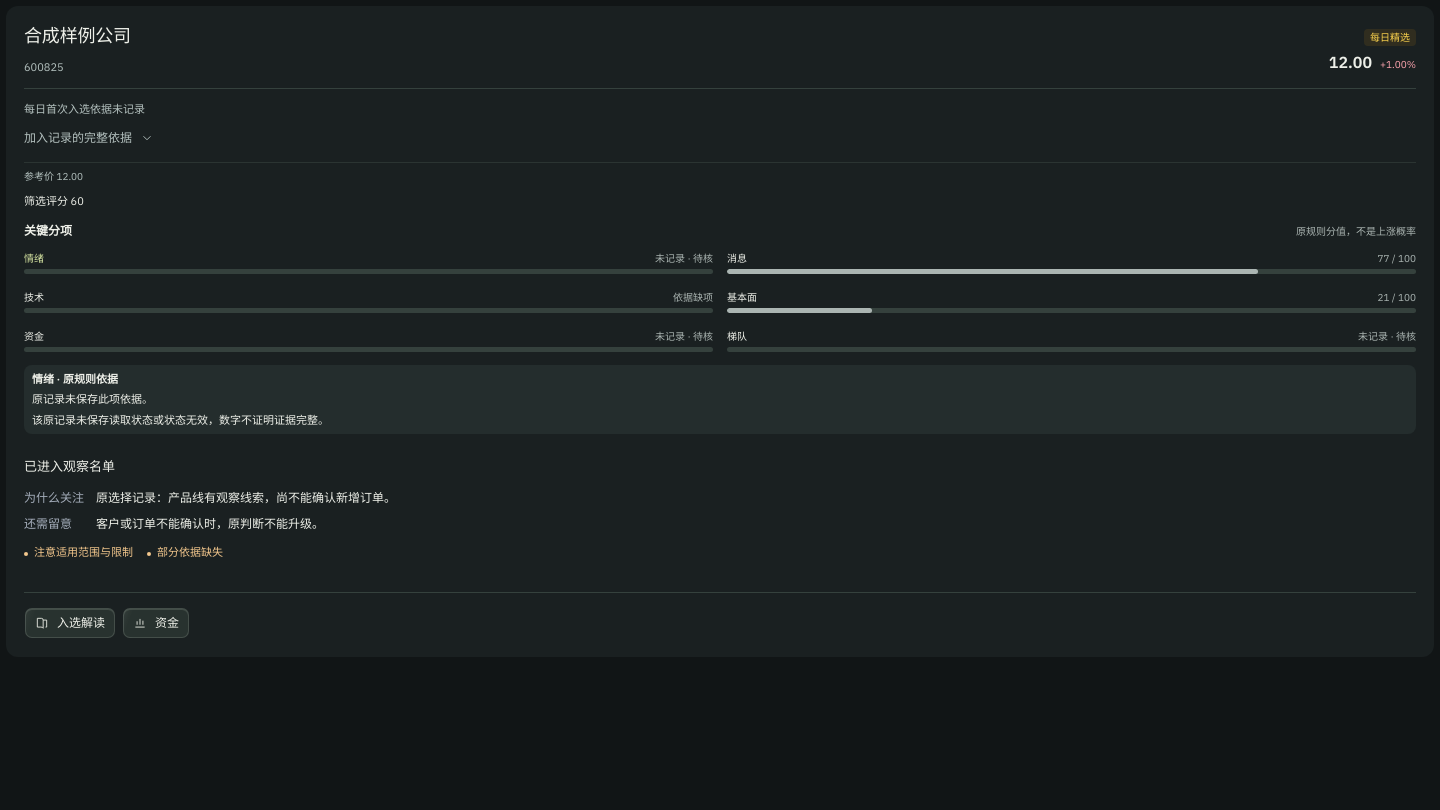
real saved score values fill bars, missing placeholders do not; hover/focus/click link the exact basis
The image size is (1440, 810).
Click the button "入选解读" at (70, 623), box [24,607,116,639]
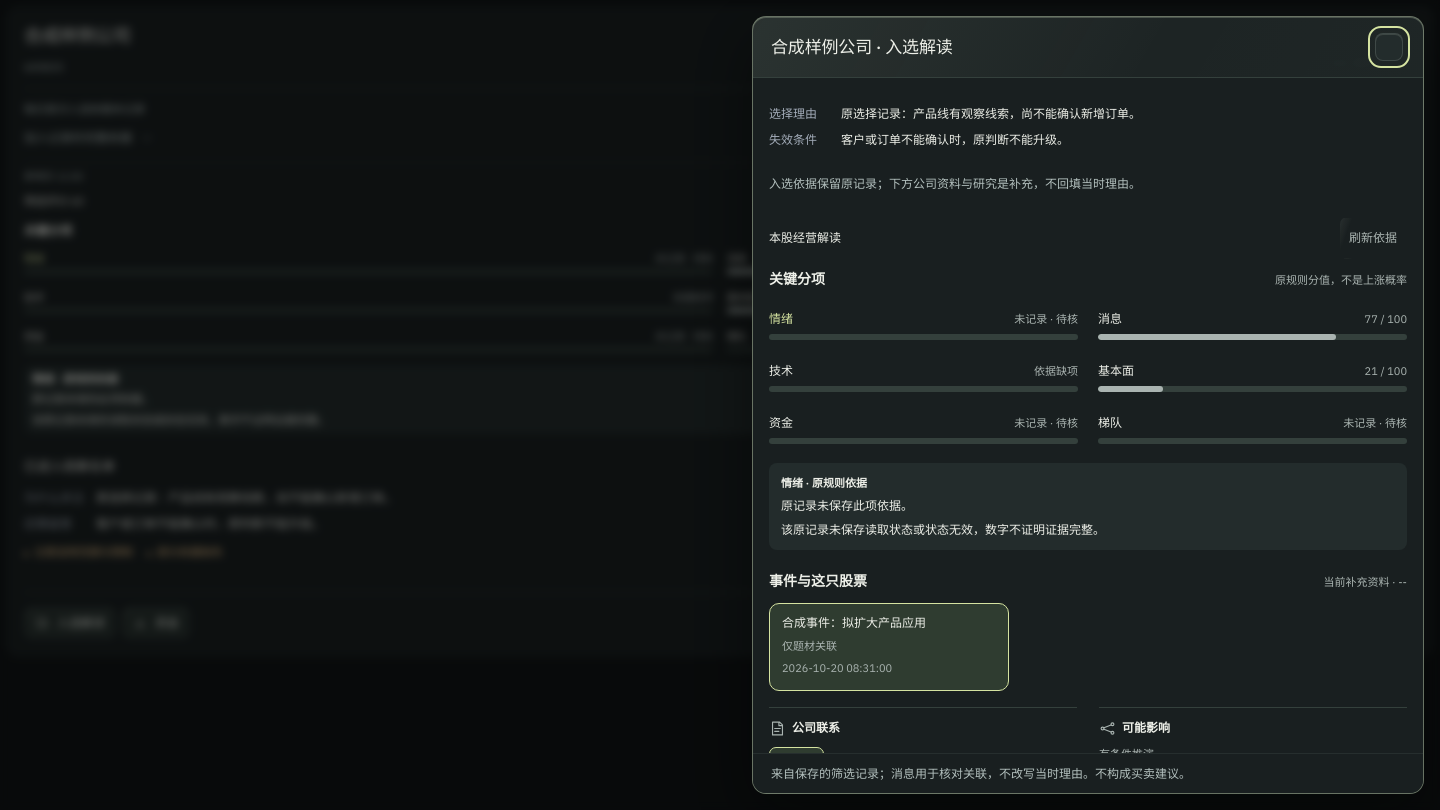
Hover over the button with aria-label "核对基本面评分依据" at (1116, 371), box [1098,353,1407,401]
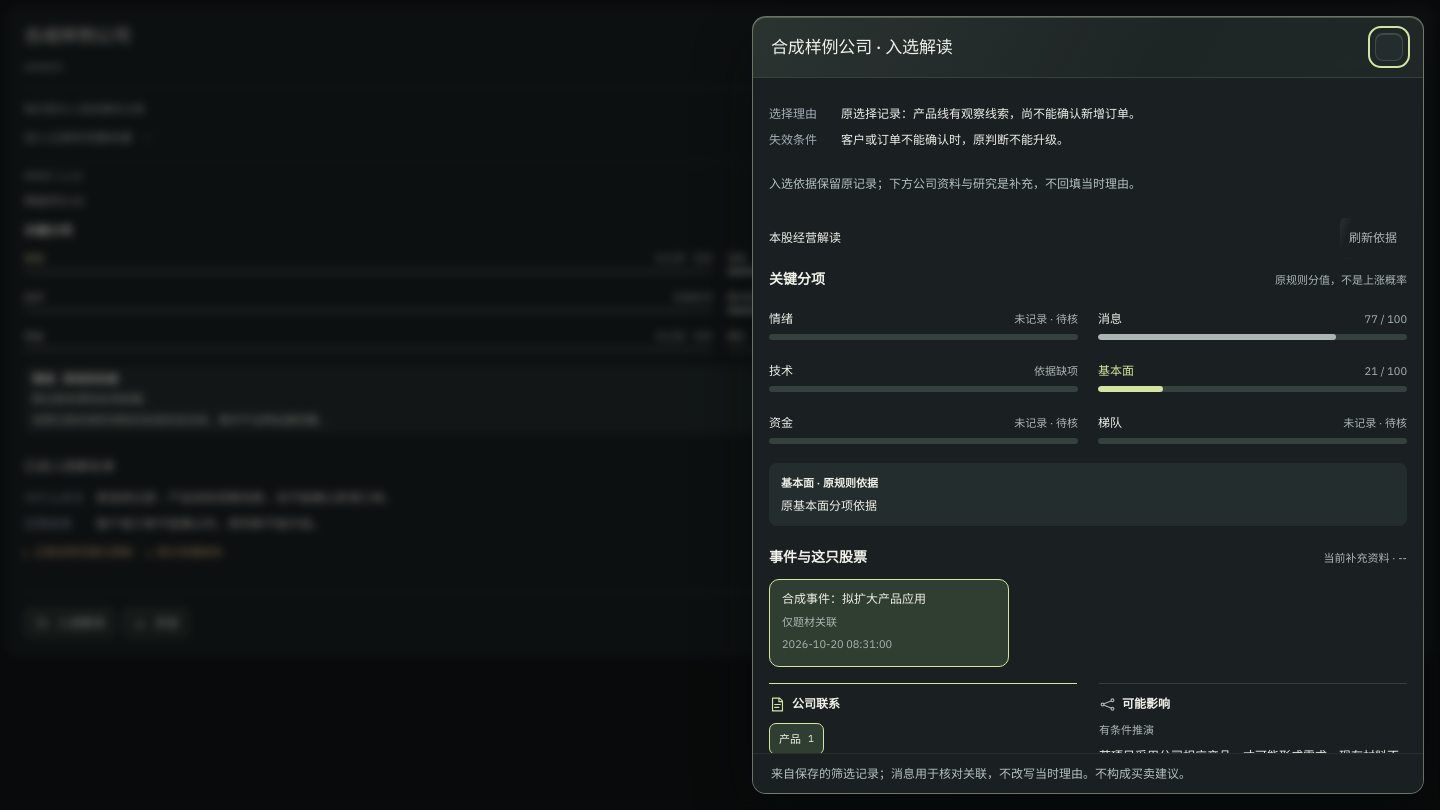
Check: the element named "当前评分依据" shows "原基本面分项依据", box [781,498,877,514]
Focus the button with aria-label "核对技术评分依据" at (1056, 371), box [769,353,1078,401]
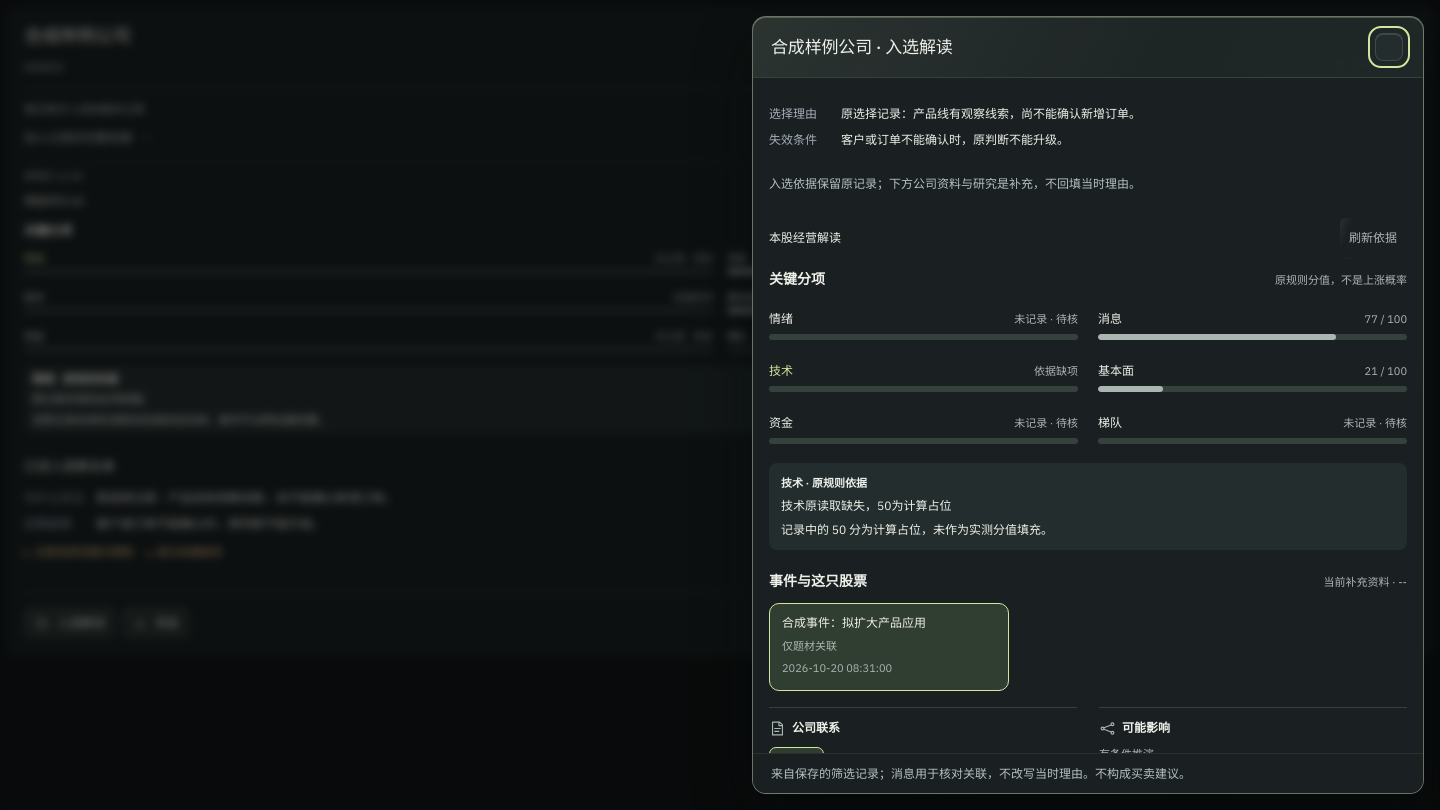
Check: the element named "当前评分依据" shows "50 分为计算占位", box [769,463,1407,550]
Click the button with aria-label "核对消息评分依据" at (1386, 319), box [1098,301,1407,349]
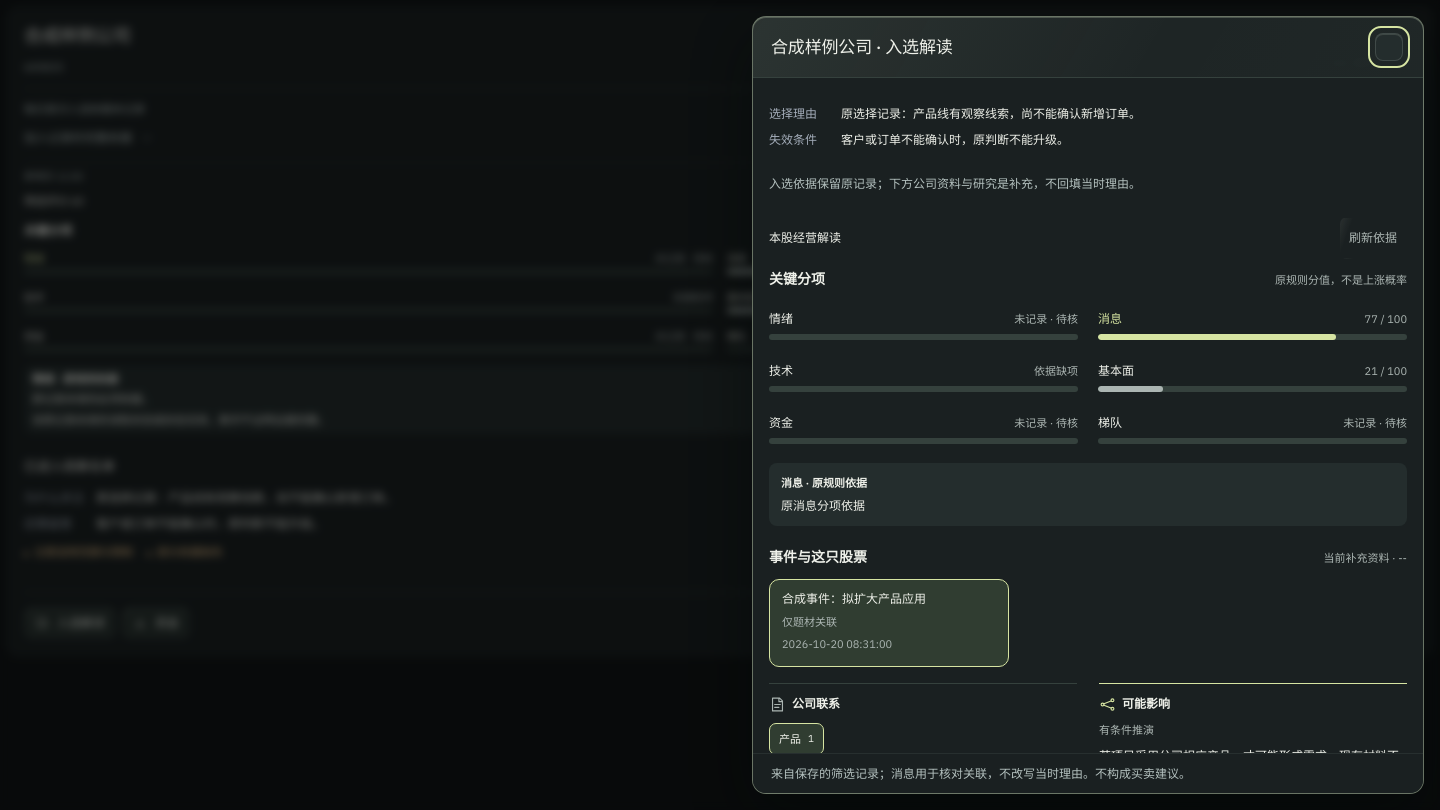
Check: the element named "当前评分依据" shows "原消息分项依据", box [781,498,865,514]
